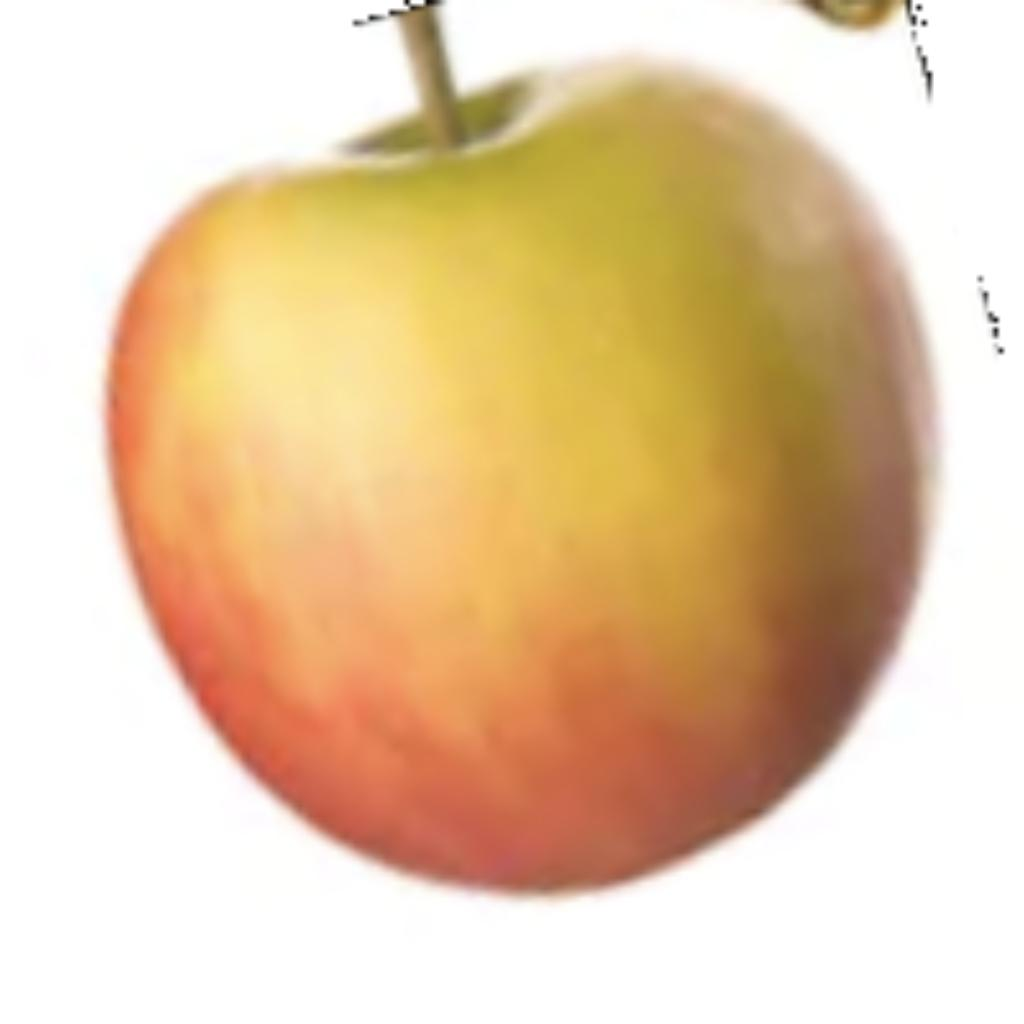apple: (87, 0, 952, 906)
